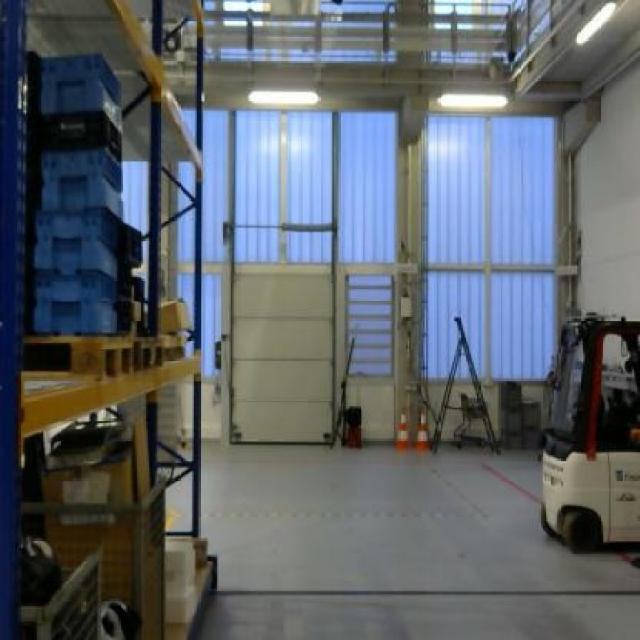box: (157, 298, 192, 336)
